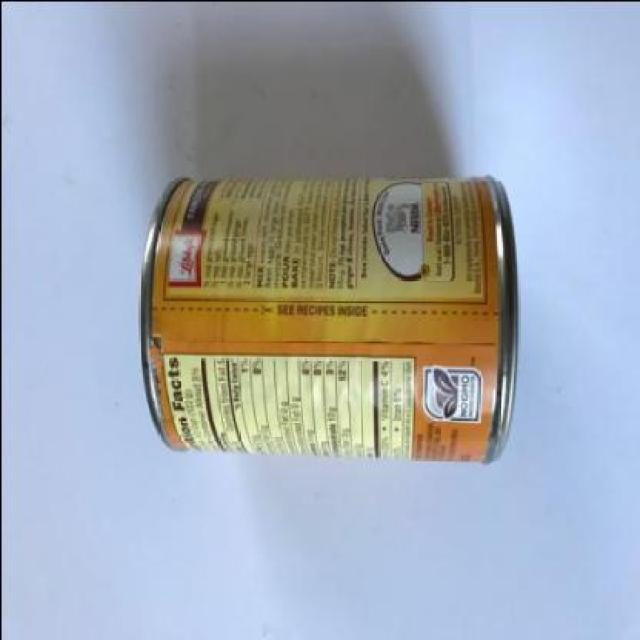METAL: (137, 172, 518, 466)
